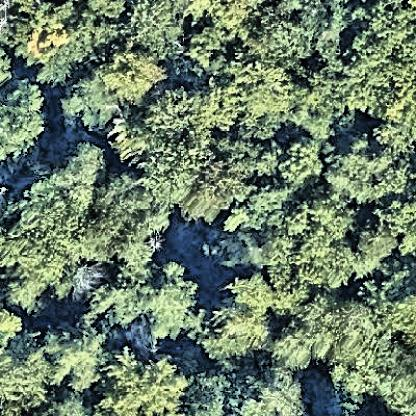tree-top: (9, 149, 107, 303), (262, 202, 372, 305), (123, 88, 225, 195), (78, 176, 178, 270), (336, 13, 416, 118), (93, 272, 200, 345), (274, 298, 382, 370), (221, 1, 350, 60), (10, 1, 118, 68), (316, 134, 409, 209), (95, 343, 188, 416), (219, 60, 300, 139), (42, 321, 109, 390), (95, 48, 168, 107), (60, 70, 125, 134), (1, 329, 48, 416), (206, 305, 274, 364), (129, 1, 197, 58), (232, 366, 308, 416), (1, 79, 46, 158), (279, 138, 329, 199), (189, 364, 233, 416), (181, 25, 225, 74), (357, 223, 401, 263), (46, 392, 88, 416)
